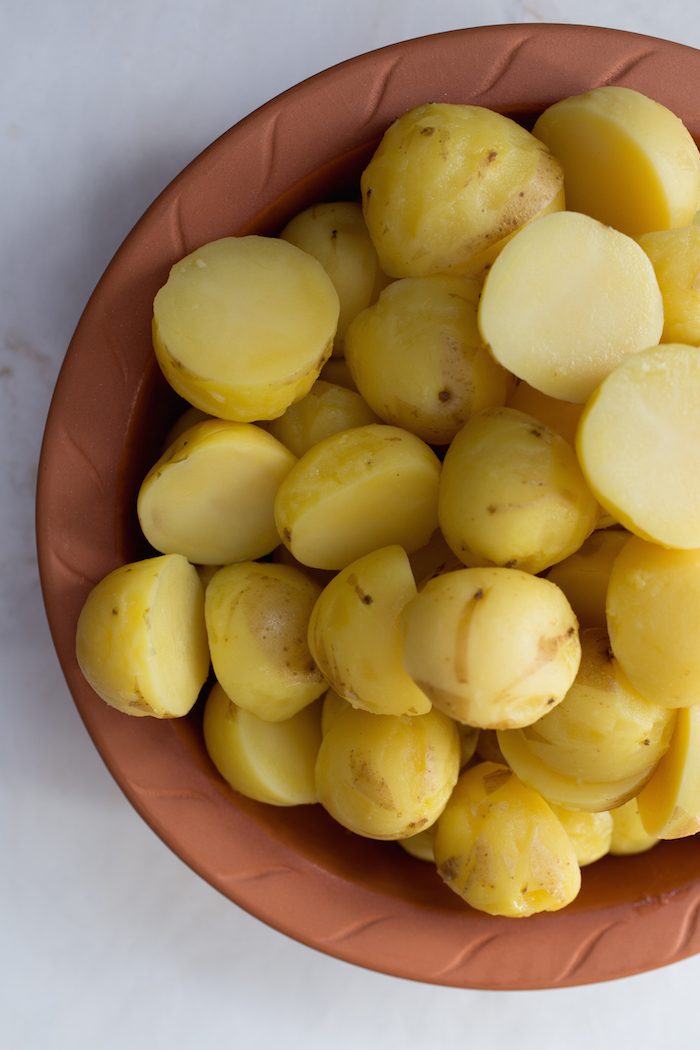boiled potatoes: (100, 161, 700, 879)
